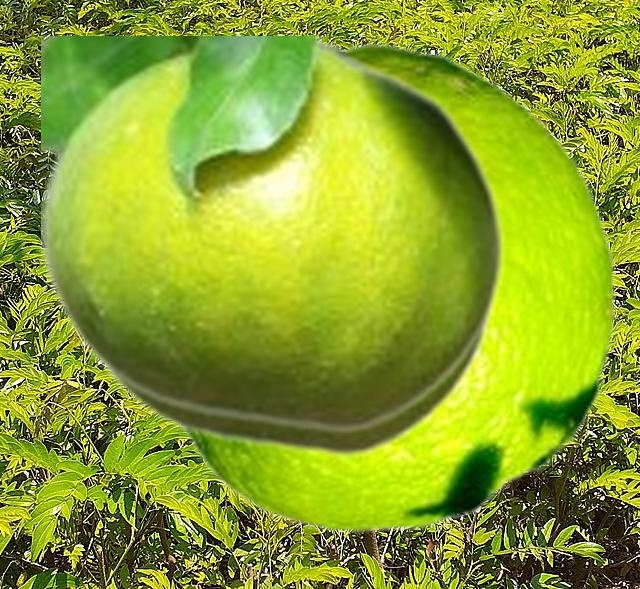dalandan: (177, 41, 616, 533), (41, 36, 506, 434), (91, 323, 492, 458)
